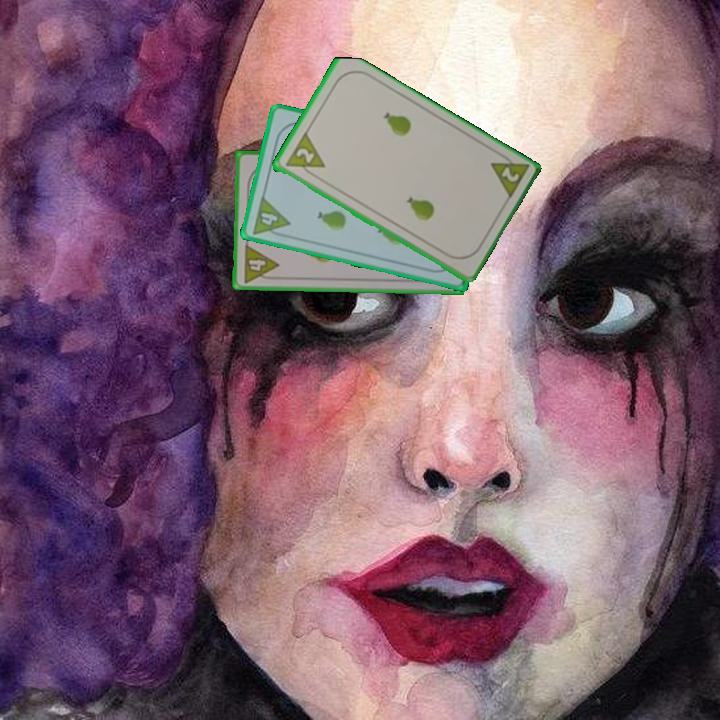2p: (486, 148, 531, 203), (281, 130, 328, 182)
4p: (249, 193, 293, 241), (240, 241, 281, 285)
